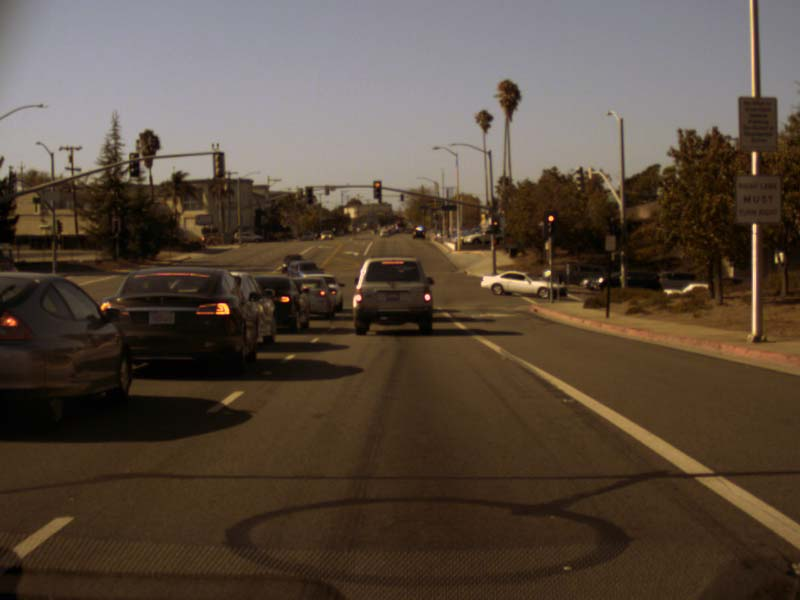Red: (542, 210, 558, 237), (373, 180, 380, 199), (491, 216, 498, 233)
